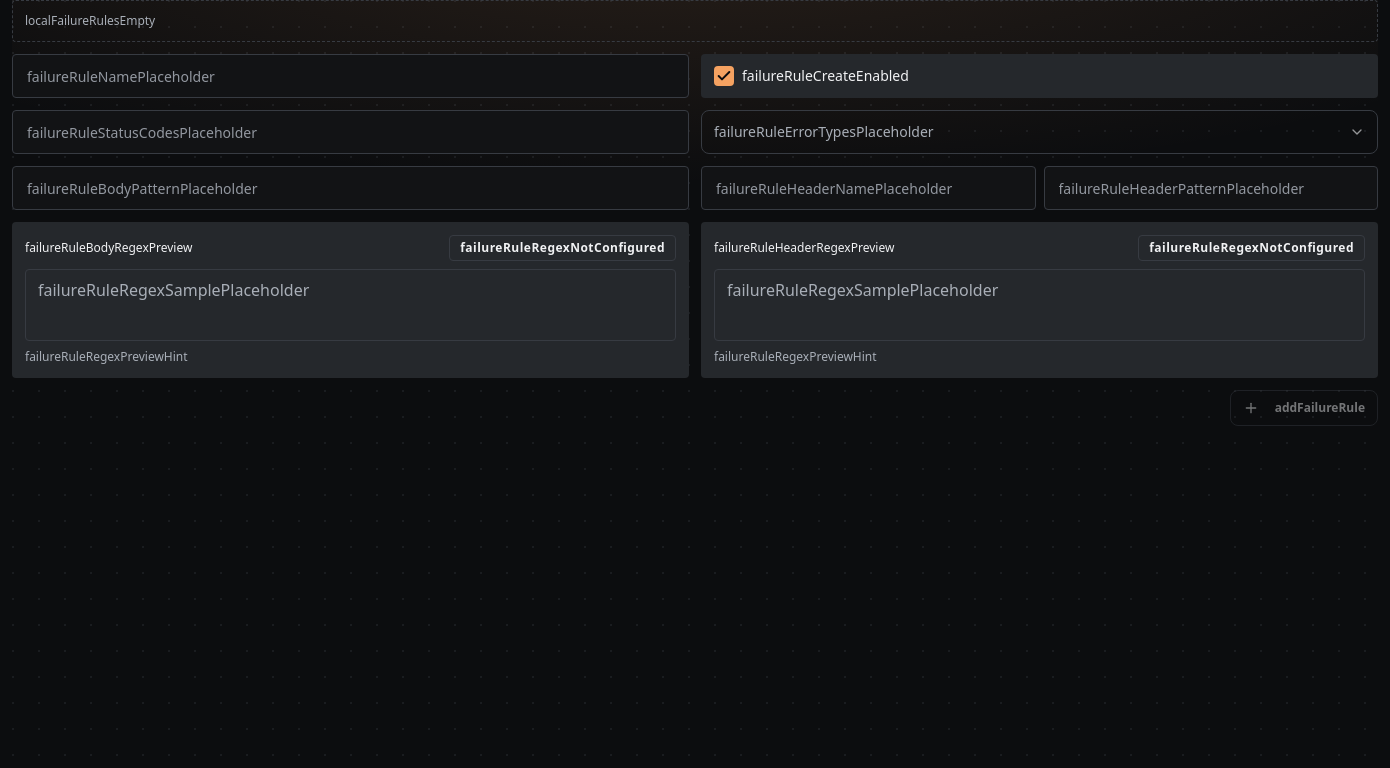
Scenario: UpstreamFailureRulesEditor › previews regex matches and blocks invalid regex submissions
This screenshot has width=1390, height=768.
Type "Regex rule" into the field with placeholder "failureRuleNamePlaceholder" at x=350, y=76, box x1=12 y1=54 x2=689 y2=98
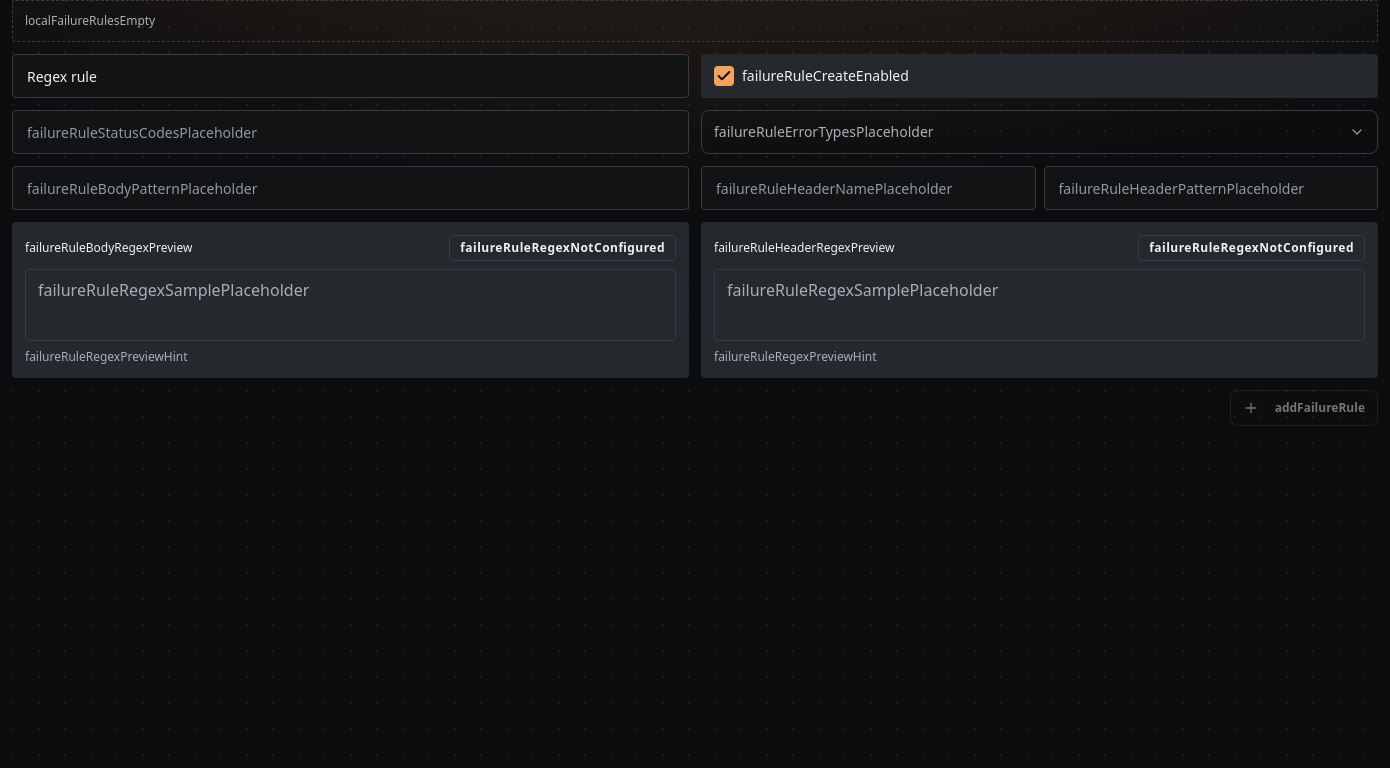
Type "quota" into the field with placeholder "failureRuleBodyPatternPlaceholder" at x=350, y=188, box x1=12 y1=166 x2=689 y2=210
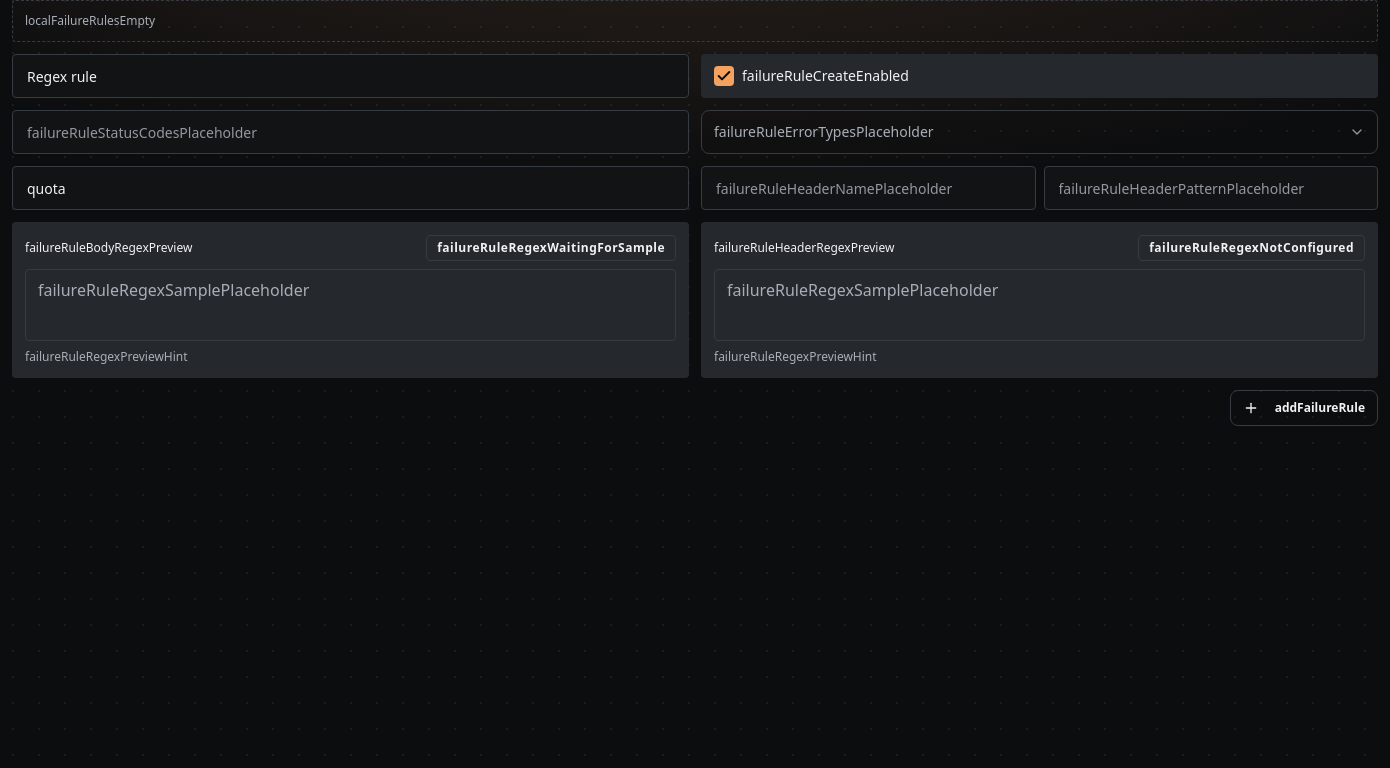
Type "insufficient_quota" into the text box with placeholder "failureRuleRegexSamplePlaceholder" below "failureRuleBodyRegexPreview" at x=350, y=305, box x1=25 y1=269 x2=676 y2=341
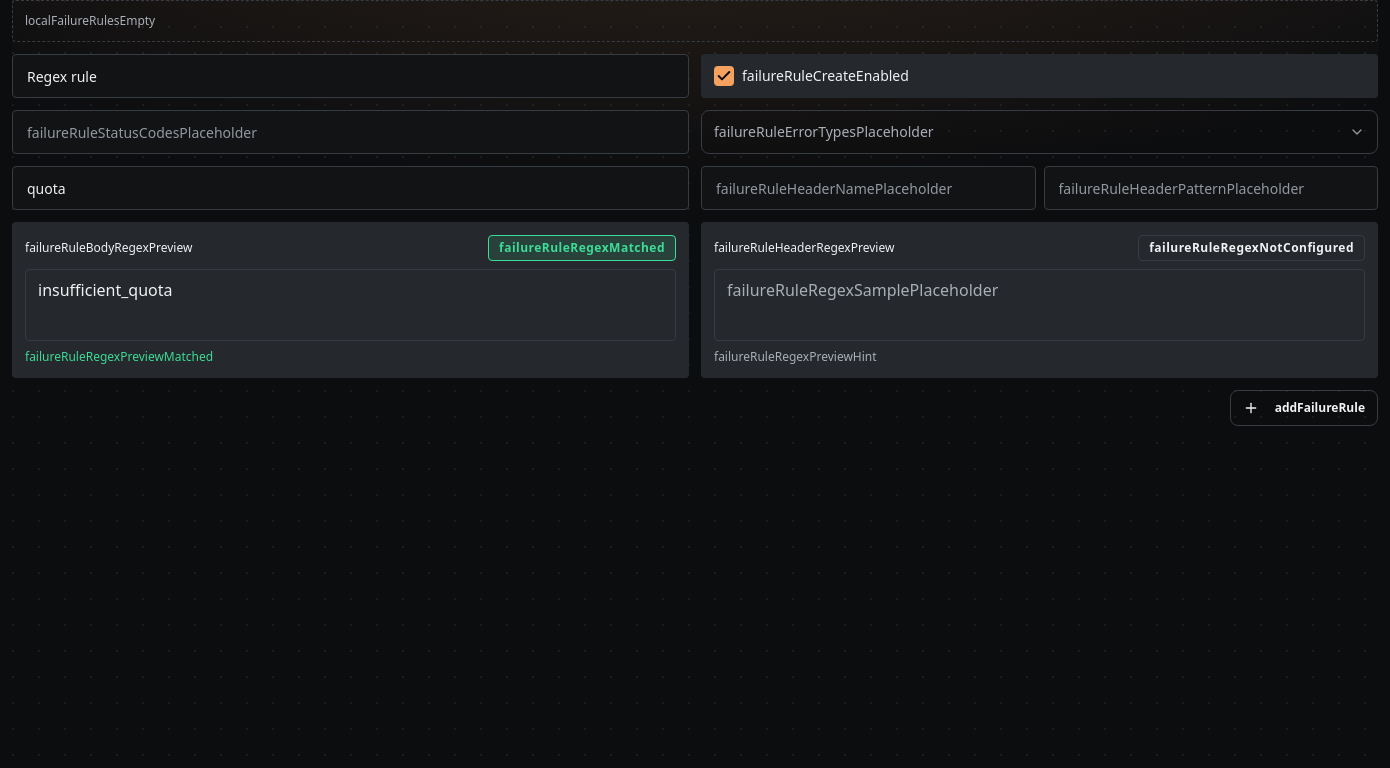
Now the button "addFailureRule" is enabled, box x1=1230 y1=390 x2=1378 y2=426
Now the text "failureRuleRegexMatched" is shown, box x1=488 y1=235 x2=676 y2=261
Now the text "failureRuleRegexPreviewMatched" is shown, box x1=25 y1=348 x2=213 y2=365
Replace the text in the 2nd field with placeholder "failureRuleBodyPatternPlaceholder" with "[" at x=350, y=188, box x1=12 y1=166 x2=689 y2=210
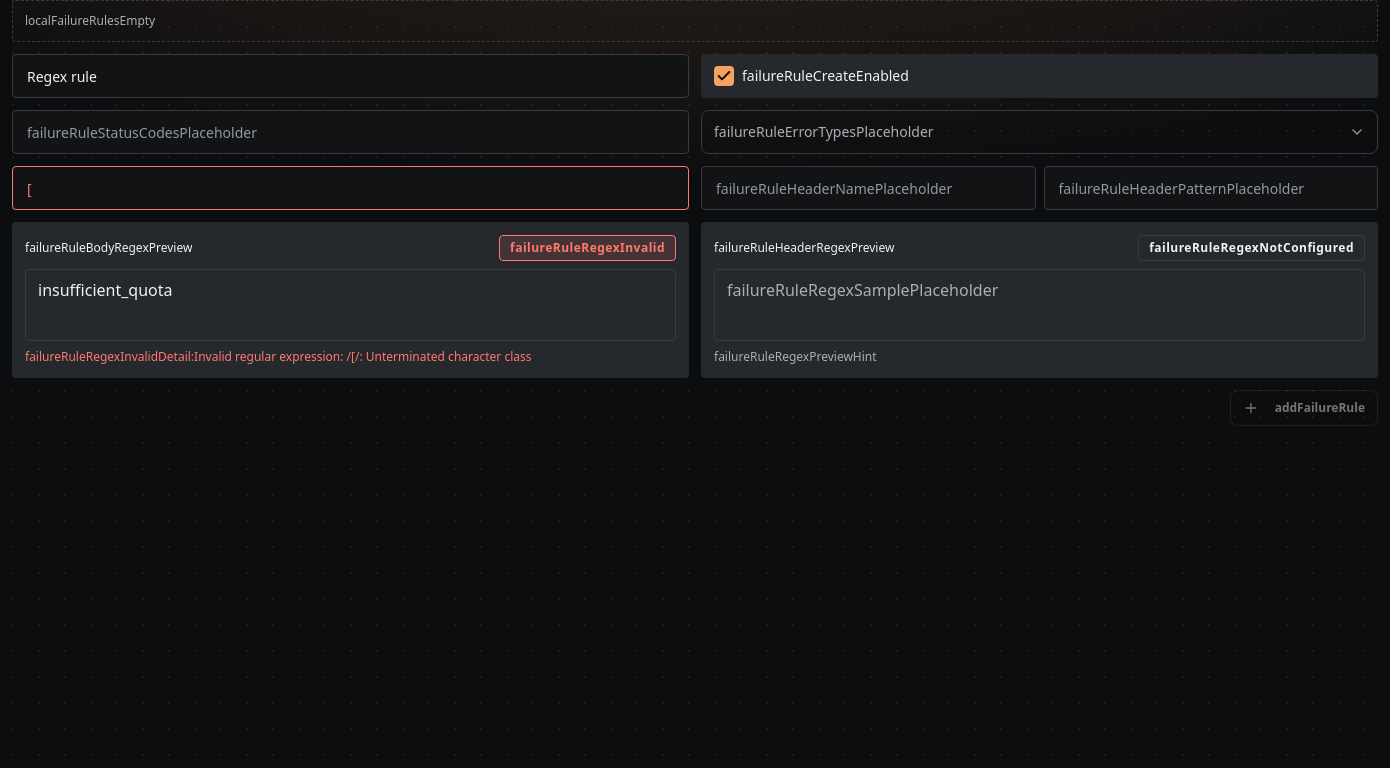
Now the text "failureRuleRegexInvalid" is shown, box x1=499 y1=235 x2=676 y2=261
Now the text "failureRuleRegexInvalidDetail" is shown, box x1=25 y1=348 x2=532 y2=365
Now the button "addFailureRule" is disabled, box x1=1230 y1=390 x2=1378 y2=426
